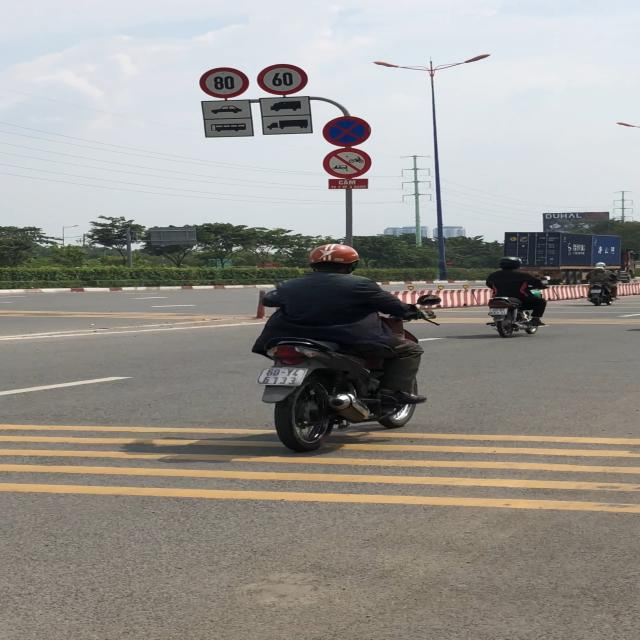Bien bao cam dung xe va do xe: (320, 115, 373, 147)
Bien bao toc do toi da cho phep: (254, 63, 319, 96), (197, 66, 253, 100)
